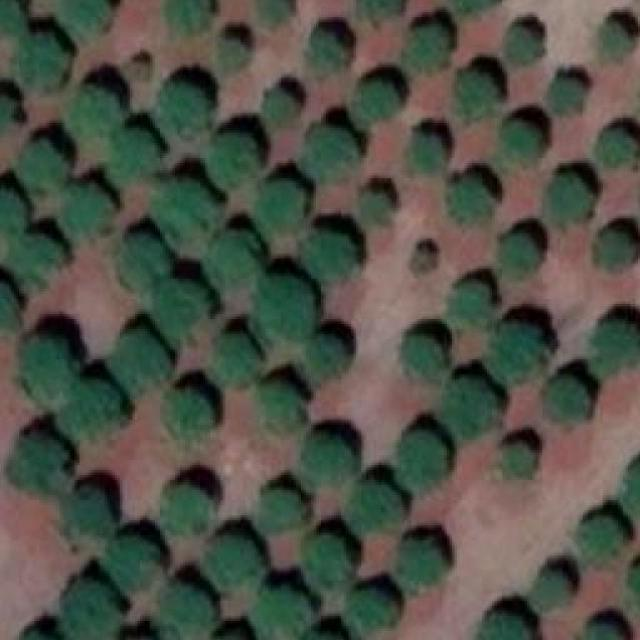Tree: (152, 181, 212, 247), (58, 379, 122, 440), (110, 329, 170, 393), (439, 379, 502, 438), (62, 580, 120, 640), (256, 277, 314, 337), (202, 535, 258, 594), (254, 587, 315, 640), (301, 128, 359, 183), (9, 438, 67, 493), (154, 282, 207, 342), (102, 538, 160, 592), (117, 233, 170, 292), (207, 228, 258, 289), (489, 324, 542, 382), (396, 433, 447, 493), (24, 342, 73, 403), (61, 487, 112, 545), (157, 586, 212, 639), (301, 438, 356, 491), (16, 35, 67, 91), (19, 141, 70, 196), (14, 236, 64, 292), (110, 131, 160, 186), (157, 85, 207, 139), (61, 186, 110, 240), (210, 133, 259, 186), (303, 535, 351, 589), (350, 485, 404, 533), (71, 87, 120, 138), (212, 334, 258, 388), (398, 540, 444, 594), (303, 233, 353, 282), (542, 175, 593, 223), (345, 591, 399, 636), (593, 321, 640, 372), (165, 389, 213, 438), (300, 334, 343, 388), (447, 176, 492, 227), (258, 183, 303, 234), (403, 24, 449, 73), (162, 485, 207, 533), (258, 488, 306, 533), (263, 382, 303, 436), (457, 70, 497, 124), (398, 337, 444, 382), (59, 0, 110, 39), (305, 30, 348, 76), (547, 377, 588, 421), (449, 282, 489, 325), (471, 613, 534, 640), (499, 233, 539, 274), (502, 123, 540, 166), (585, 518, 620, 564), (356, 86, 402, 120), (0, 191, 29, 242), (595, 230, 633, 268), (408, 133, 446, 171), (598, 131, 638, 166), (529, 574, 570, 608), (506, 25, 540, 66), (263, 90, 298, 128), (168, 0, 213, 29), (550, 80, 584, 114), (501, 443, 534, 478), (603, 23, 633, 61), (351, 0, 402, 22), (0, 284, 19, 339), (362, 188, 389, 226), (446, 0, 499, 17), (258, 0, 290, 27), (0, 94, 17, 143), (0, 0, 22, 37), (623, 468, 640, 513), (580, 623, 625, 640), (220, 40, 246, 68), (628, 565, 640, 619), (414, 248, 436, 272), (135, 62, 150, 78)
